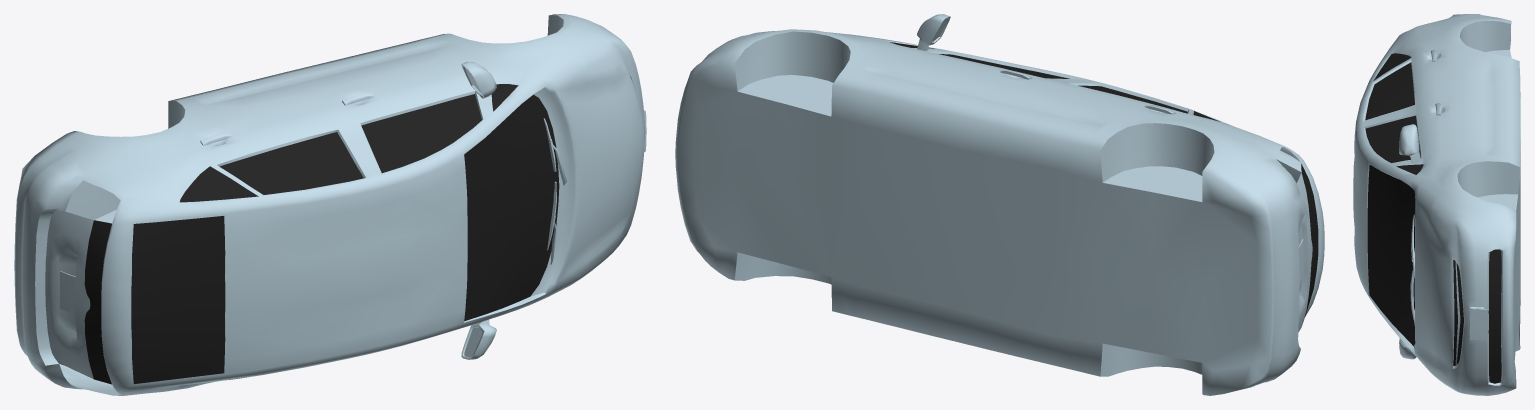
File: chassis.glb
3 views of the same model, side by side, from view 1: azimuth 30°, elevation 25°; view 2: azimuth 150°, elevation 25°; view 3: azimuth 270°, elevation 25° (orthographic). The views are drawn at different scales.
Parts seen in each view (by area): view 1: shadeWhite_001, shadeBlack_001; view 2: shadeWhite_001, shadeBlack_001; view 3: shadeWhite_001, shadeBlack_001.
Part boxes in pixels (left/top/right/bottom): shadeWhite_001: left=14, top=14, right=646, bottom=395; shadeBlack_001: left=84, top=84, right=559, bottom=384; shadeWhite_001: left=675, top=14, right=1324, bottom=395; shadeBlack_001: left=890, top=42, right=1318, bottom=323; shadeWhite_001: left=1353, top=14, right=1520, bottom=395; shadeBlack_001: left=1365, top=53, right=1501, bottom=383.
Size of the model in its own units: 44.14 by 20.13 by 13.14.
